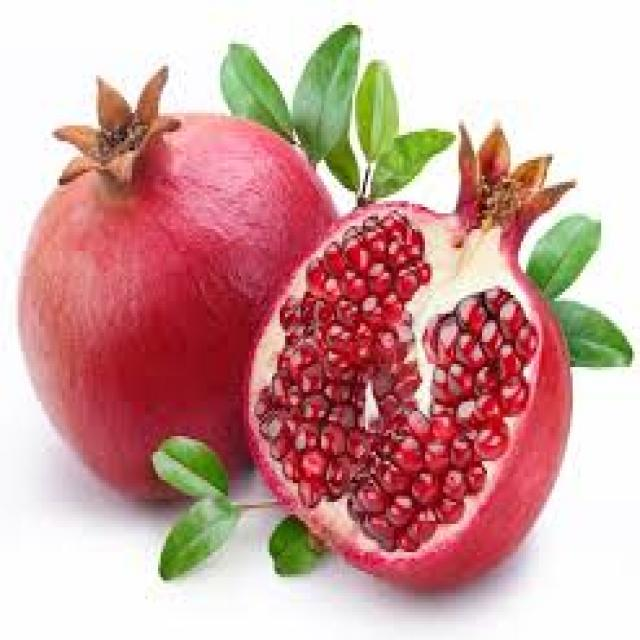organic waste: (238, 119, 573, 587), (18, 63, 340, 499), (288, 25, 358, 160), (363, 126, 453, 210), (148, 490, 233, 578), (518, 214, 599, 302), (547, 298, 632, 377), (220, 38, 285, 135), (148, 426, 225, 496), (355, 56, 396, 157), (264, 514, 322, 571), (321, 138, 355, 185)
